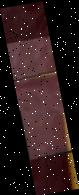scratch: (6, 35, 72, 160)
